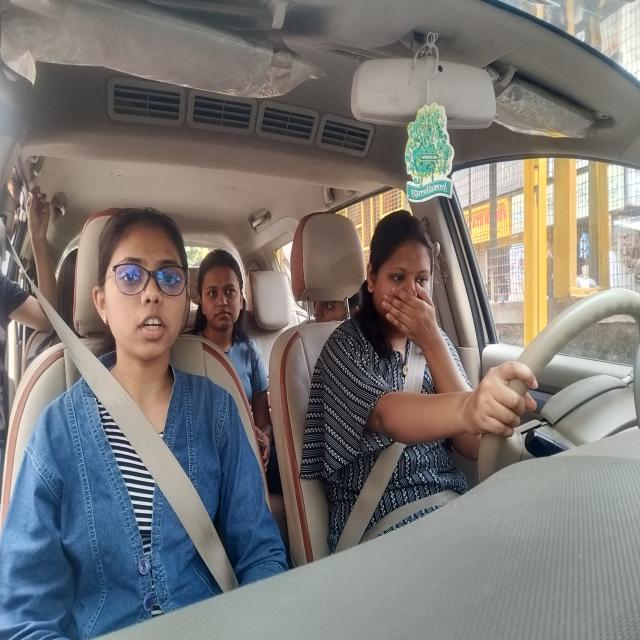person: (94, 206, 193, 376), (366, 210, 440, 340), (198, 244, 246, 349), (312, 298, 354, 320)
